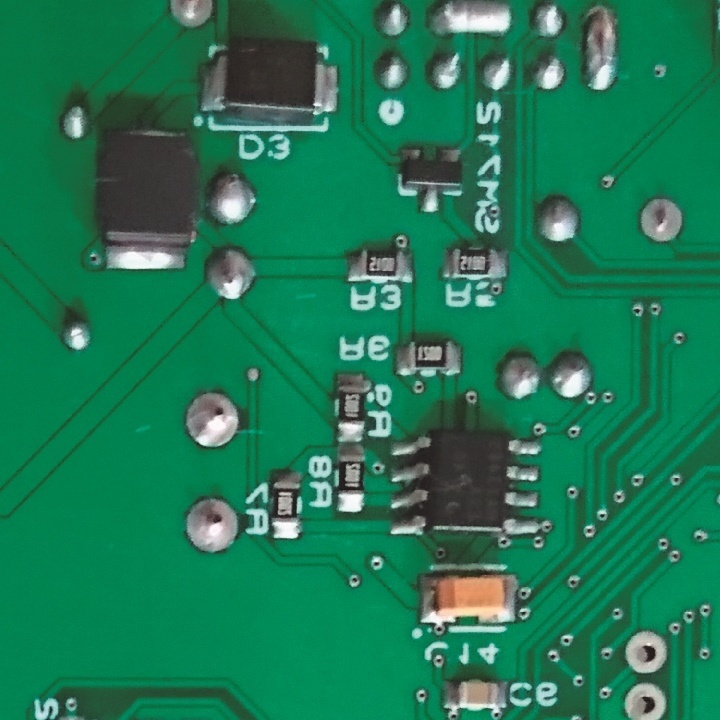F: (184, 389, 242, 452), (182, 494, 239, 557), (634, 194, 684, 246), (624, 628, 670, 679), (165, 1, 218, 37), (622, 681, 669, 720)
P: (579, 1, 622, 100), (424, 2, 515, 39)
